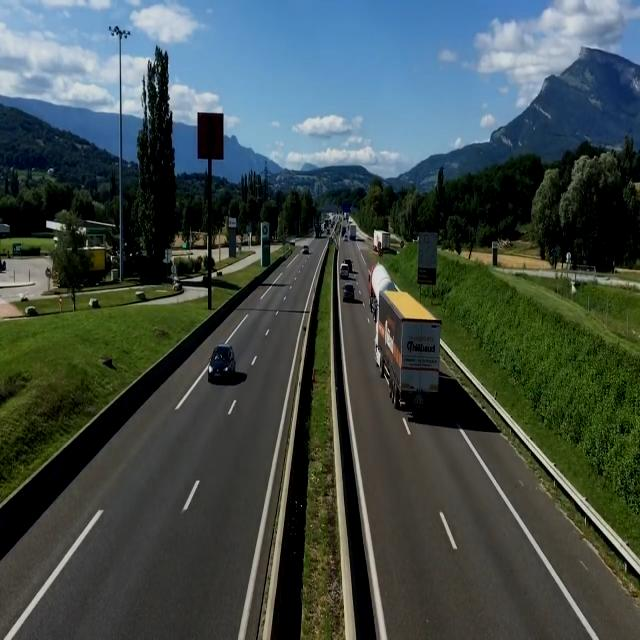Car: (206, 344, 236, 384), (342, 284, 355, 302)
Truck: (377, 288, 444, 410), (366, 262, 402, 316)
Van: (339, 262, 350, 278)
